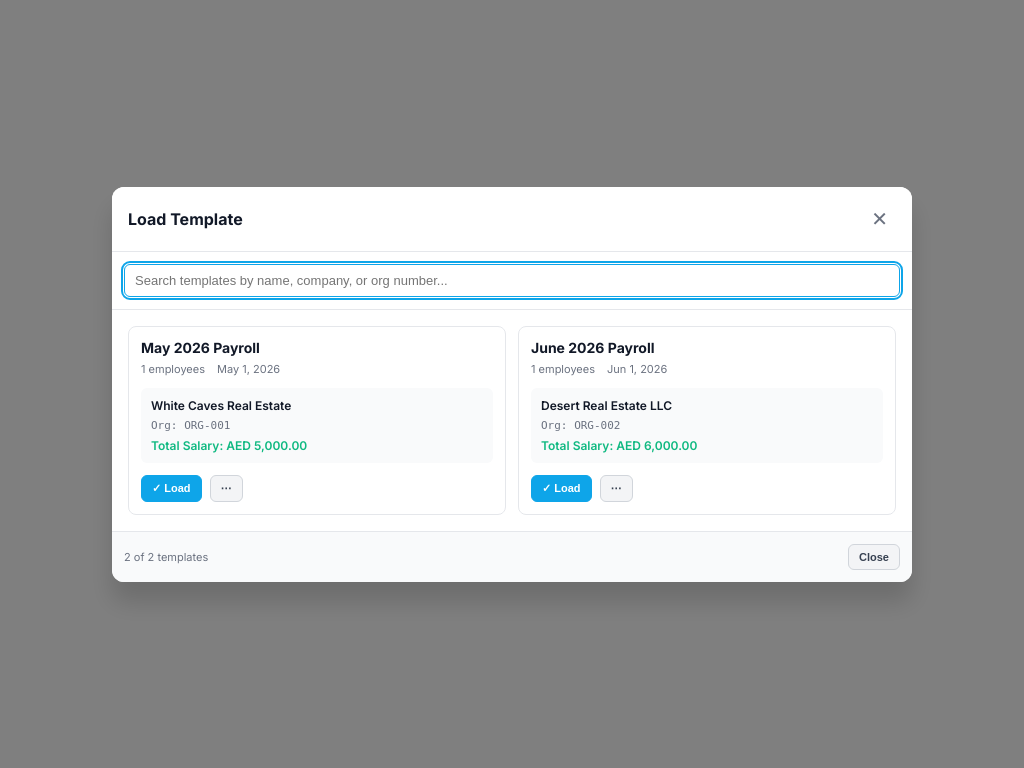
Test case: TemplateSelectorModal — search filtering › shows "No templates match" when search has no results
Type "ZZZZZZ" into the field.
click(512, 280); type("ZZZZZZ")  # box [124,264,900,296]
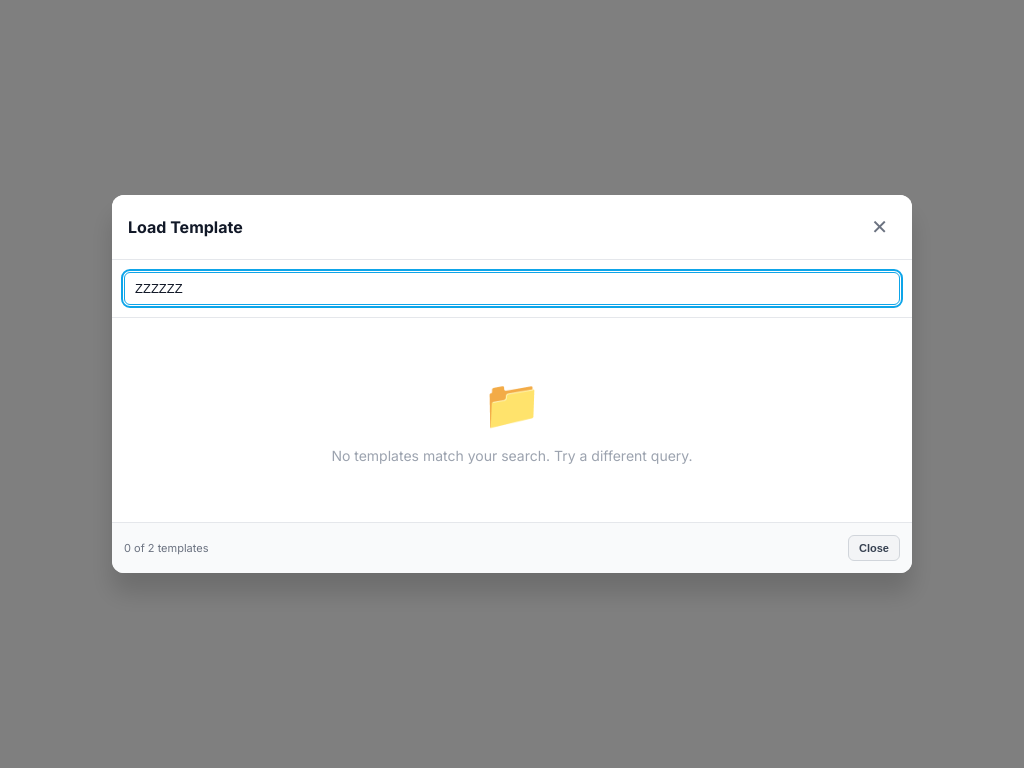
Expected: the text "No templates match your search. Try a different query." is shown, [331,445,693,466]
